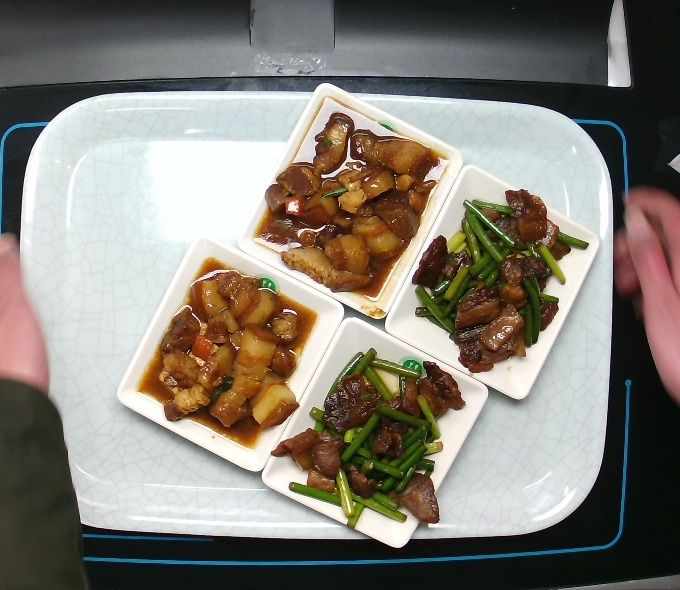wcq-HongShaoRou: (245, 94, 450, 300), (133, 255, 323, 450)
wcq-SuanMiaoChaoRou: (402, 186, 590, 376), (273, 350, 469, 527)
